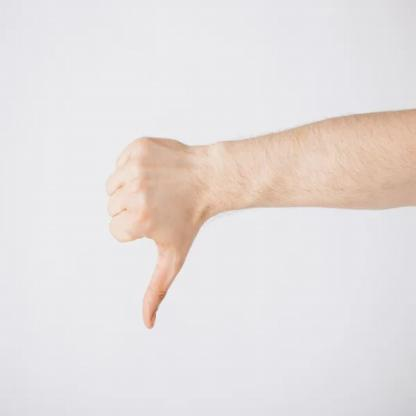thumb_down: (103, 126, 206, 332)
